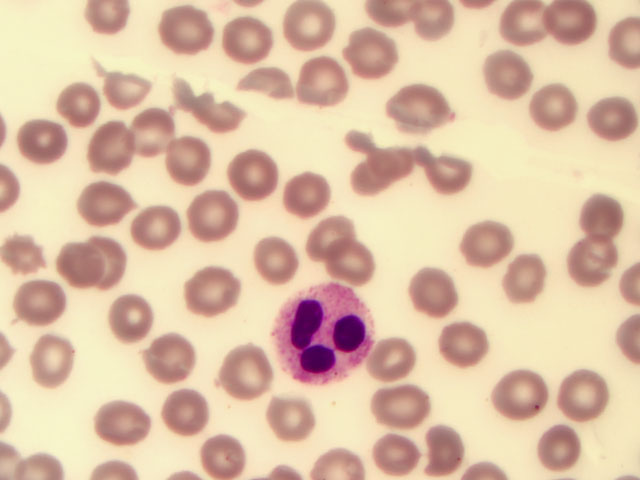RBC: (56, 81, 105, 129), (17, 117, 66, 165), (83, 124, 132, 172), (128, 109, 177, 157), (159, 134, 208, 182), (186, 188, 235, 236), (225, 153, 274, 201), (133, 202, 182, 250), (80, 180, 129, 228), (88, 235, 137, 283), (53, 241, 102, 289), (16, 280, 65, 328), (1, 229, 50, 277), (28, 342, 77, 390), (99, 290, 148, 338), (141, 329, 190, 377), (186, 270, 235, 318), (255, 233, 304, 281), (310, 206, 359, 254), (285, 174, 334, 222), (324, 240, 373, 288), (340, 160, 389, 208), (365, 143, 414, 191), (424, 151, 473, 199), (391, 85, 440, 133), (302, 56, 351, 104), (223, 15, 272, 63), (165, 8, 214, 56), (283, 4, 332, 52), (347, 26, 396, 74), (488, 56, 537, 104), (534, 83, 583, 131), (591, 94, 640, 142), (578, 198, 627, 246), (565, 239, 614, 287), (505, 252, 554, 300), (458, 216, 507, 264), (403, 269, 452, 317), (369, 336, 418, 384), (373, 381, 422, 429), (440, 317, 489, 365), (490, 367, 539, 415), (557, 369, 606, 417), (541, 422, 590, 470), (381, 432, 430, 480), (264, 401, 313, 449), (224, 351, 273, 399), (197, 428, 246, 476), (162, 386, 211, 434), (92, 396, 141, 444), (502, 1, 551, 49), (544, 1, 593, 48)
WBC: (272, 281, 374, 384)
